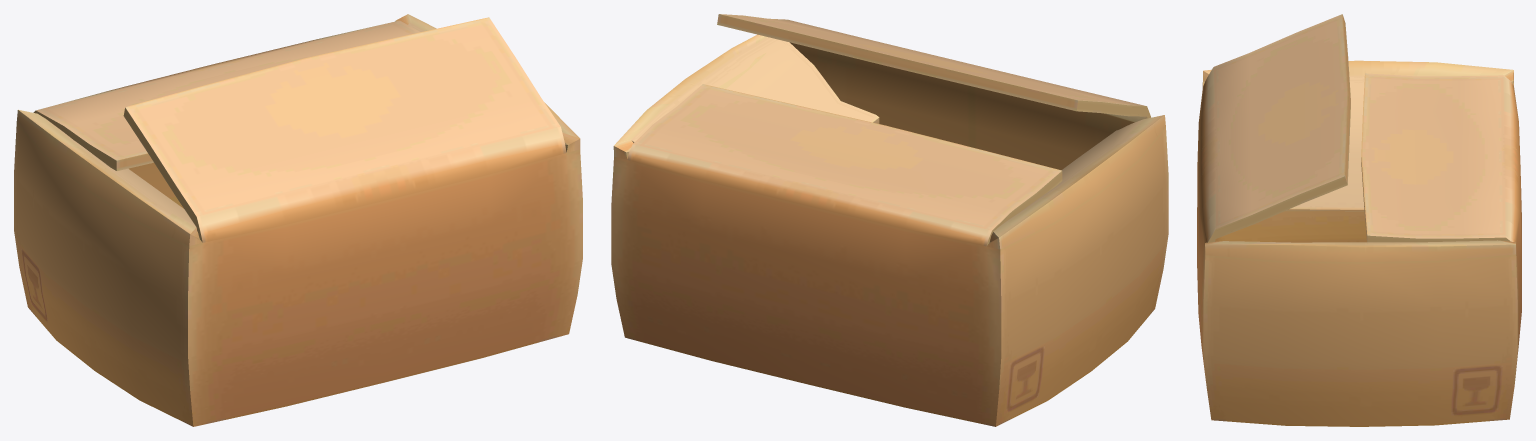
The model's file is carton_boxes2.fbx.
3 views of the same model, side by side, from view 1: azimuth 30°, elevation 25°; view 2: azimuth 150°, elevation 25°; view 3: azimuth 270°, elevation 25° (orthographic). The views are drawn at different scales.
Parts seen in each view (by area): view 1: carton_boxes2; view 2: carton_boxes2; view 3: carton_boxes2.
Boxes of the visible parts, x1,y1,x2,y2 form: carton_boxes2: [14, 14, 582, 426]; carton_boxes2: [611, 14, 1168, 426]; carton_boxes2: [1197, 14, 1521, 426].
Size of the model in its own units: 136 by 80.69 by 97.73.
1 material, 1 textured.
